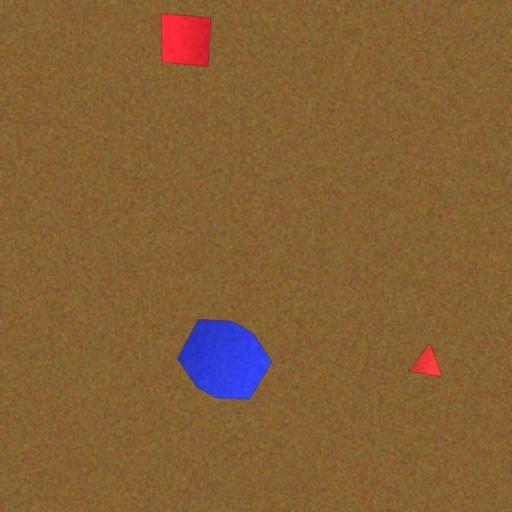RED_SQUARE: (160, 13, 212, 68)
